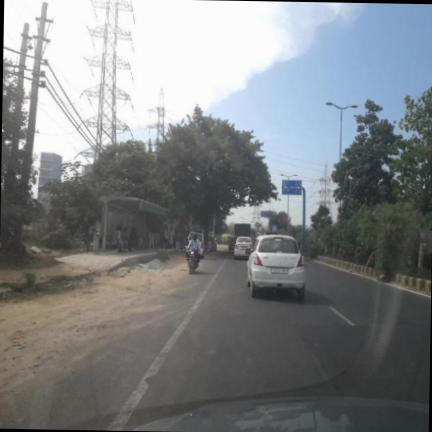Road: (20, 252, 430, 430)
